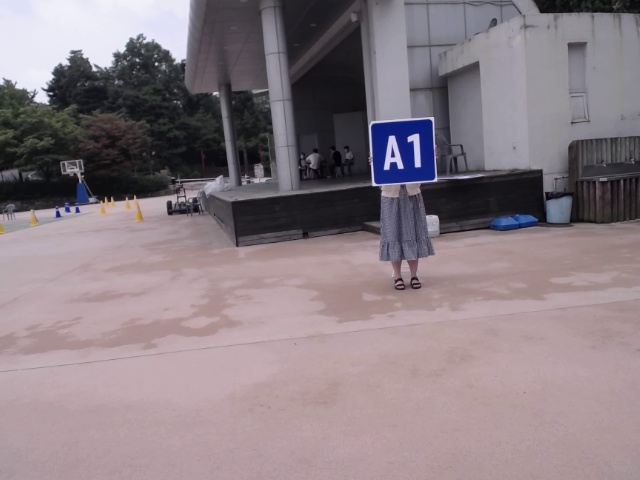delivery_a1: (370, 117, 437, 186)
